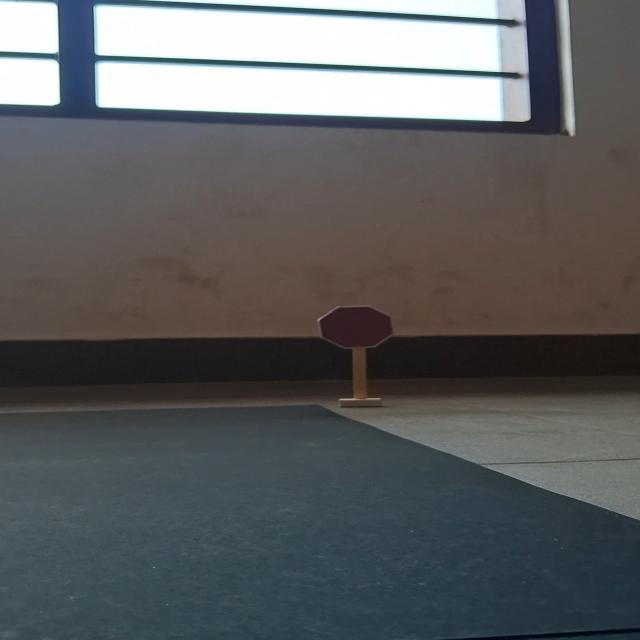Stop: (317, 305, 396, 349)
